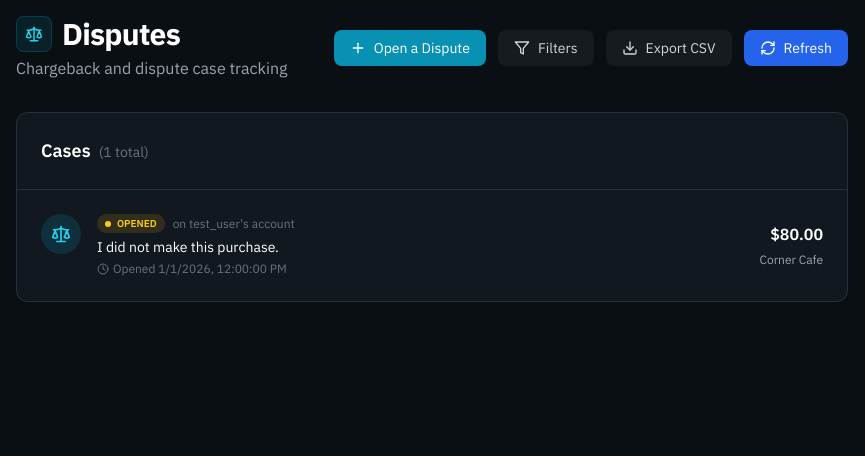
Test case: DisputesPage — regular user › a failed export shows an error
The image size is (865, 456).
Expected: the text "Corner Cafe" is shown, x1=760 y1=252 x2=823 y2=266
Click the button "Export CSV".
click(668, 48)  # box x1=606 y1=30 x2=732 y2=66
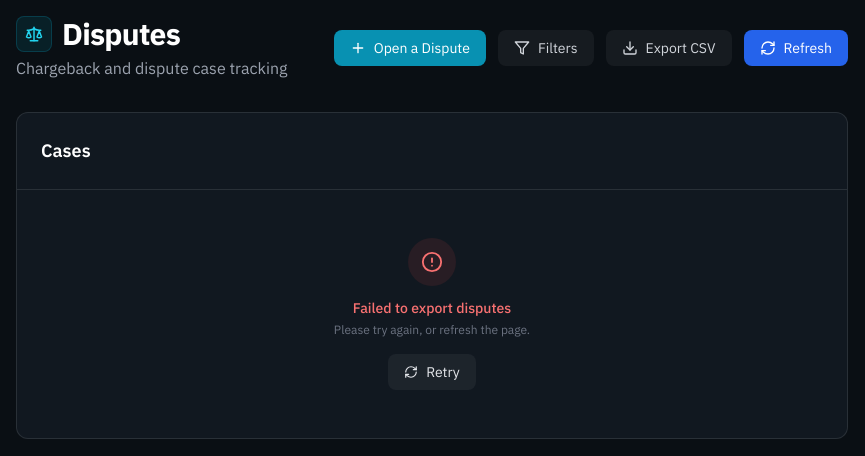
Expected: the text "Failed to export disputes" is shown, x1=353 y1=299 x2=511 y2=317
